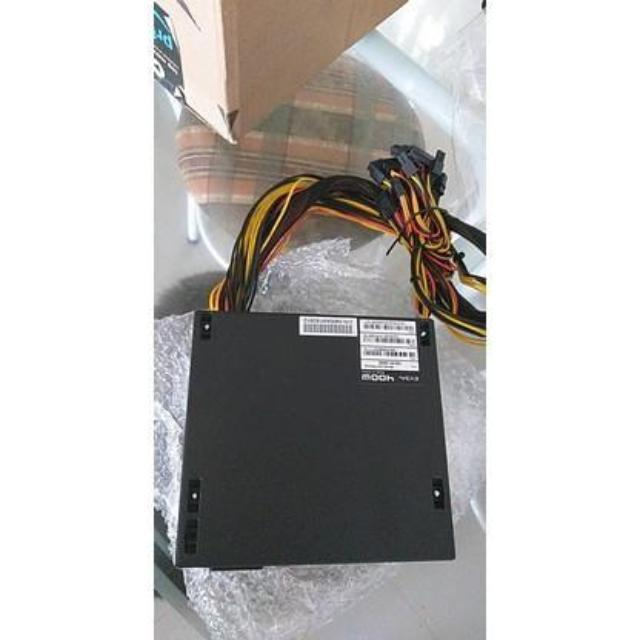PSU: (175, 304, 458, 579)
